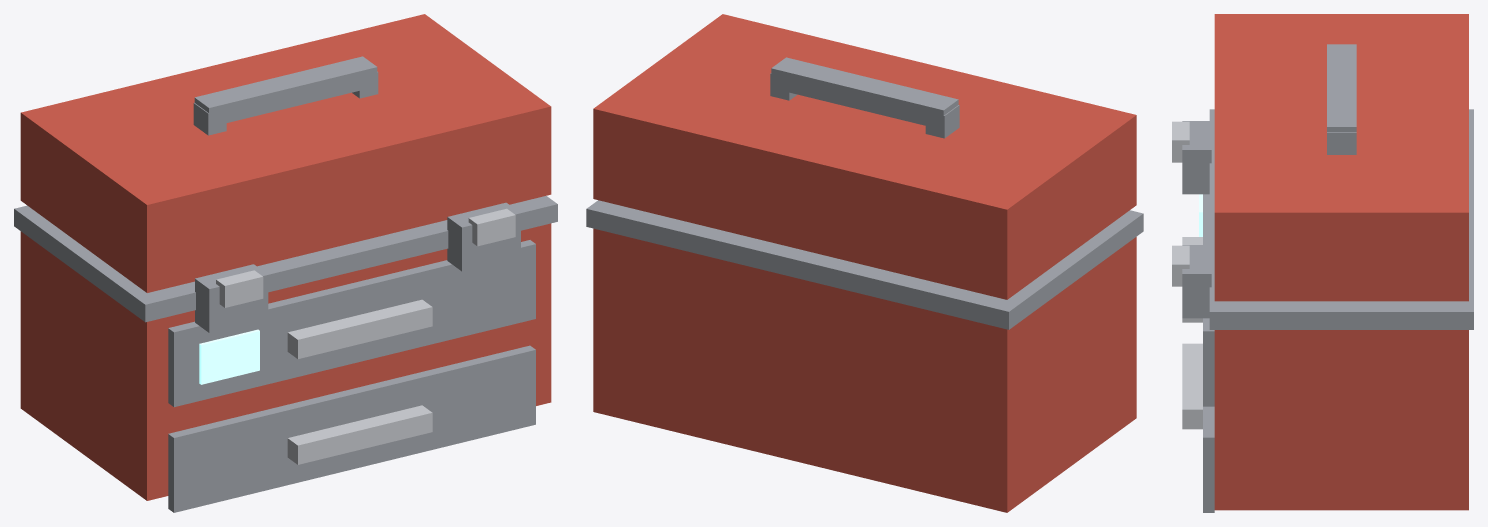
The model's file is prop_toolbox.glb.
3 views of the same model, side by side, from view 1: azimuth 30°, elevation 25°; view 2: azimuth 150°, elevation 25°; view 3: azimuth 270°, elevation 25° (orthographic). The views are drawn at different scales.
Visible parts, largest first — view 1: prop_toolbox; view 2: prop_toolbox; view 3: prop_toolbox.
Boxes of the visible parts, x1=… form: prop_toolbox: x1=14, y1=14, x2=557, y2=512; prop_toolbox: x1=586, y1=14, x2=1143, y2=512; prop_toolbox: x1=1172, y1=14, x2=1473, y2=512.
Size of the model in its own units: 0.49 by 0.3815 by 0.3085.
